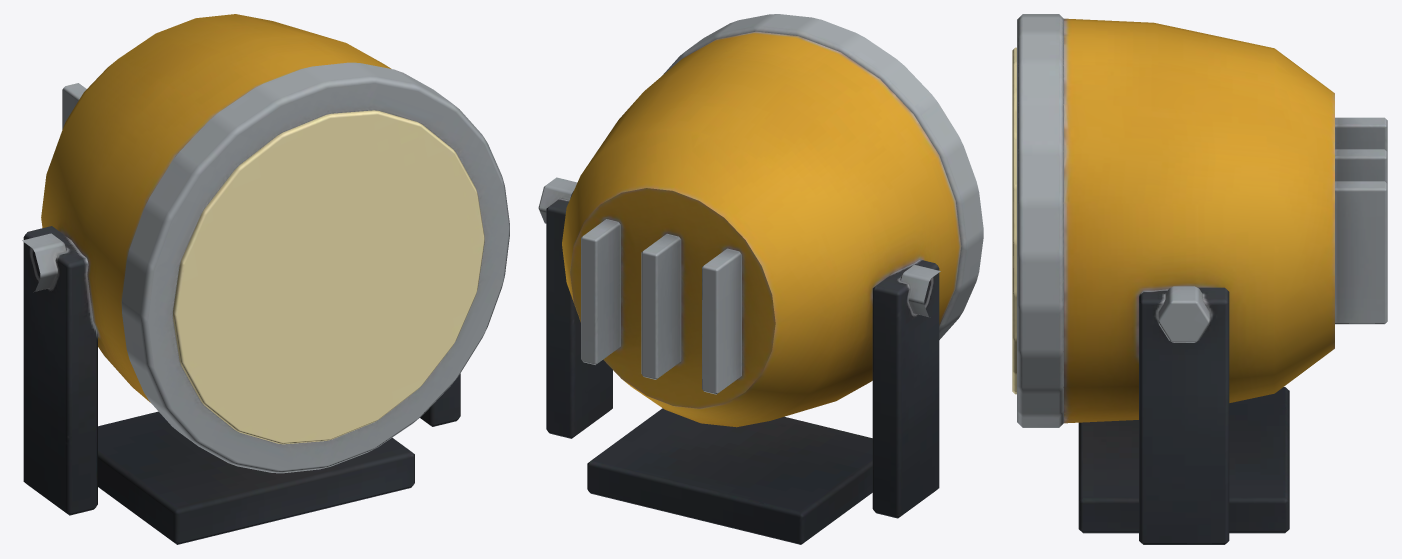
Rendered from headlight-v001.glb.
3 renders of one model, left to right at view 1: azimuth 30°, elevation 25°; view 2: azimuth 150°, elevation 25°; view 3: azimuth 270°, elevation 25°, orthographic. The views are drawn at different scales.
Visible parts, largest first — view 1: Headlight; view 2: Headlight; view 3: Headlight.
Boxes of the visible parts, x1,y1,x2,y2 form: Headlight: (22, 14, 509, 544); Headlight: (538, 14, 983, 544); Headlight: (1012, 14, 1387, 544).
Bounding box in the file's own units: 0.32 × 0.3255 × 0.249.
1 material, 1 textured.
